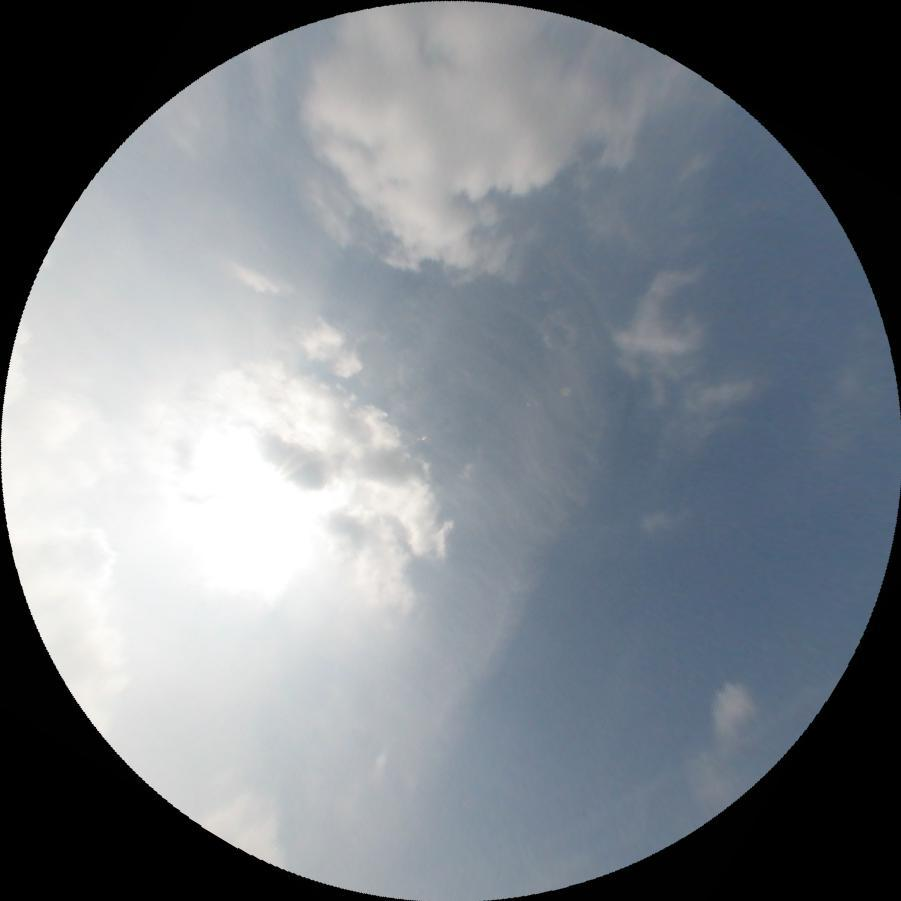sun: (156, 431, 344, 620)
unknow: (536, 678, 829, 860)
